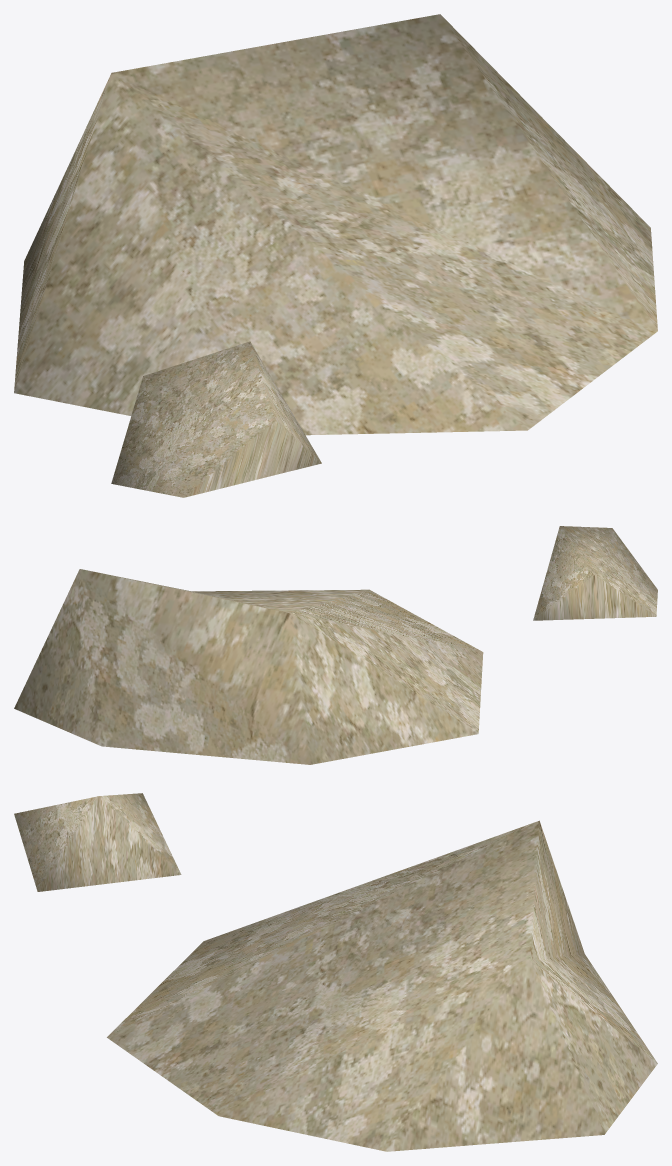
Rendered from rock_small_pile_a3_l2.fbx.
3 views of the same model, one above another, from view 1: azimuth 30°, elevation 25°; view 2: azimuth 150°, elevation 25°; view 3: azimuth 270°, elevation 25° (orthographic). The views are drawn at different scales.
Parts seen in each view (by area): view 1: mesh_node; view 2: mesh_node; view 3: mesh_node.
Part boxes in pixels (left/top/right/bottom): mesh_node: left=14, top=14, right=657, bottom=497; mesh_node: left=14, top=526, right=657, bottom=764; mesh_node: left=14, top=793, right=657, bottom=1151.
Size of the model in its own units: 1.53 by 0.4175 by 1.46.
